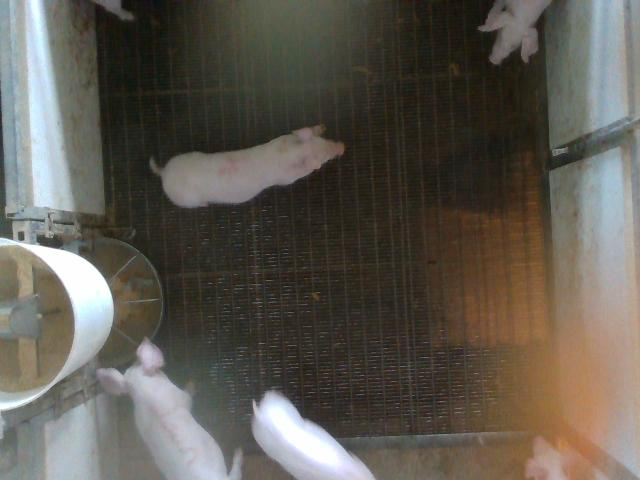pig-3: (98, 339, 228, 479)
pig-4: (150, 128, 344, 208)
